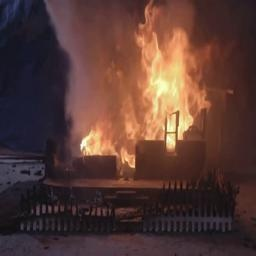fire: (79, 2, 212, 175)
